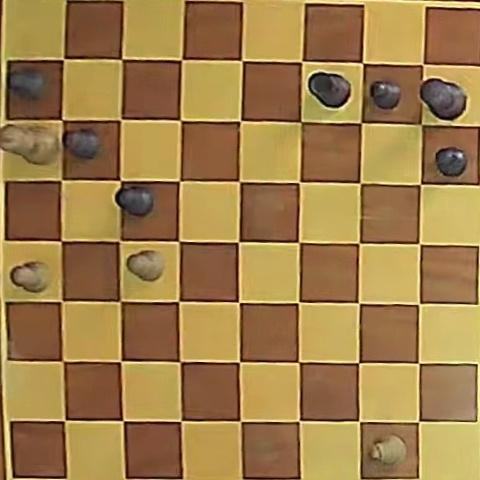black-king: (420, 78, 466, 120)
black-pawn: (115, 186, 154, 217), (9, 69, 45, 100), (65, 128, 100, 159), (435, 148, 467, 177), (371, 80, 402, 109)
black-rook: (309, 72, 351, 108)
white-bishop: (371, 436, 406, 465)
white-king: (2, 124, 59, 164)
white-pawn: (10, 261, 48, 292), (127, 250, 164, 281)
